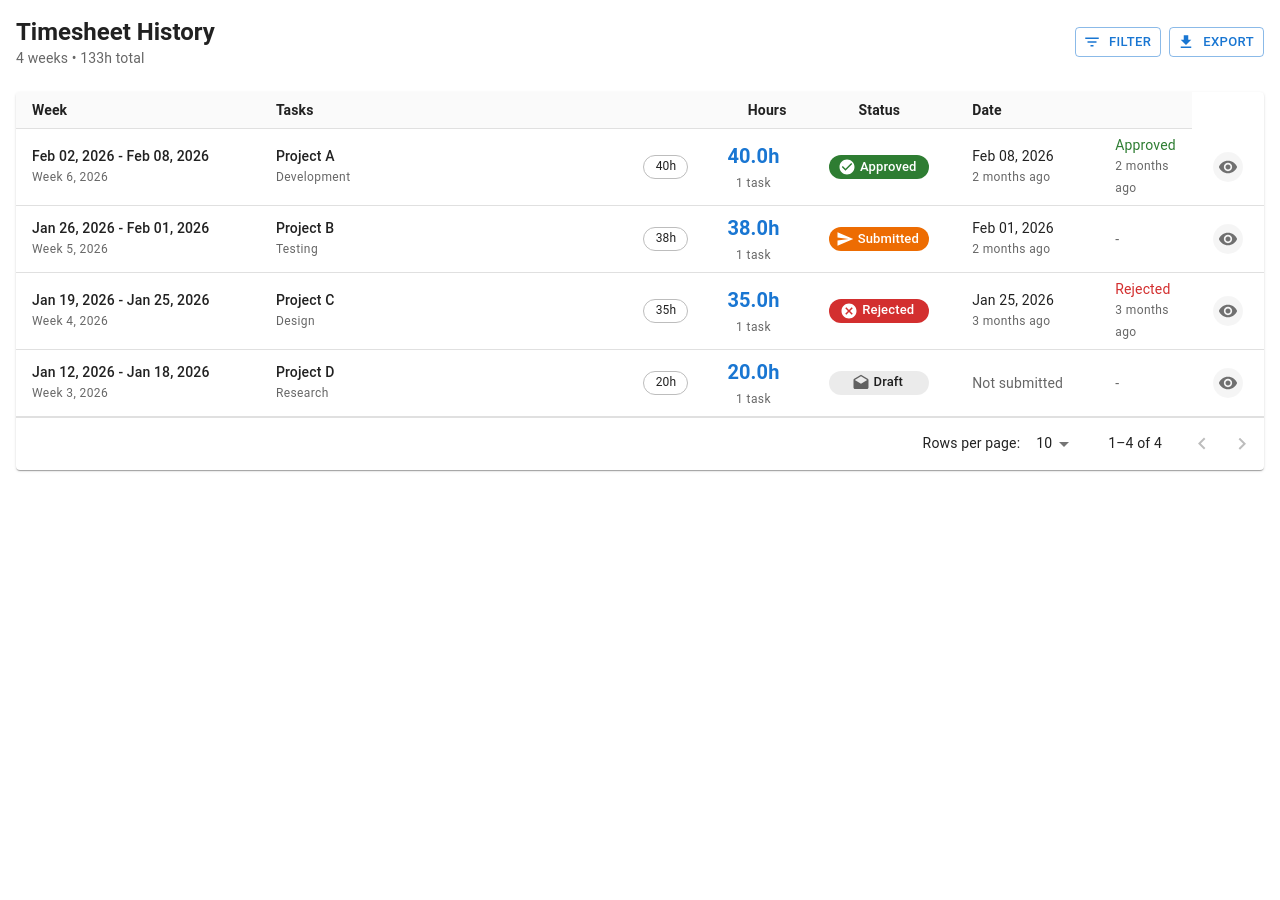
Test: TimesheetHistory › View details dialog › opens dialog when view icon is clicked
Step 1. Click the button named "view week details" in the row of "Feb 02, 2026" → x=1228, y=167, box top-left (1213, 152), bottom-right (1243, 182)
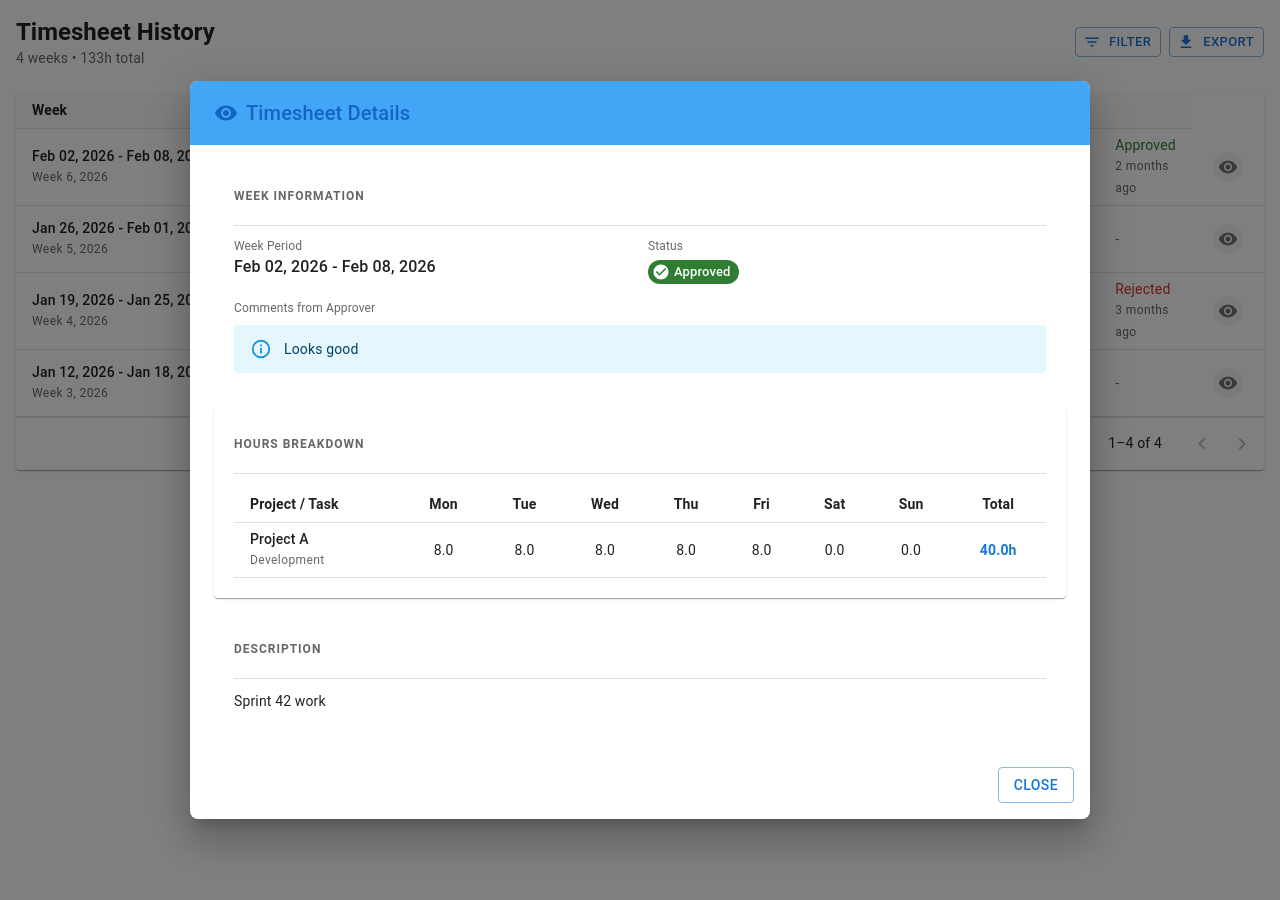
Expected: the heading "Timesheet Details" is shown, top-left (190, 81), bottom-right (1090, 145)
